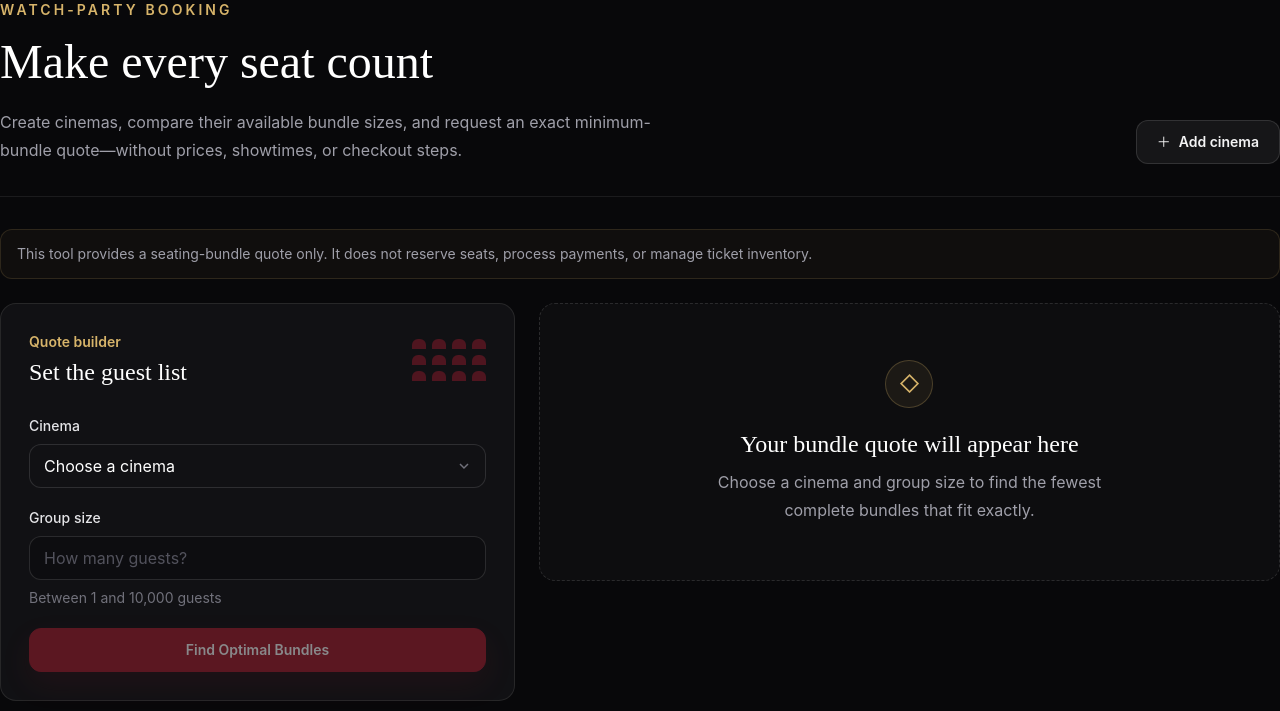
Test: BookingPage › creates a cinema, refreshes the list, and selects it
The image size is (1280, 711).
expect the dropdown labelled "Cinema" is shown: met, box [29,444,486,488]
Click the button "＋ Add cinema" at (1208, 142), box [1136,120,1279,164]
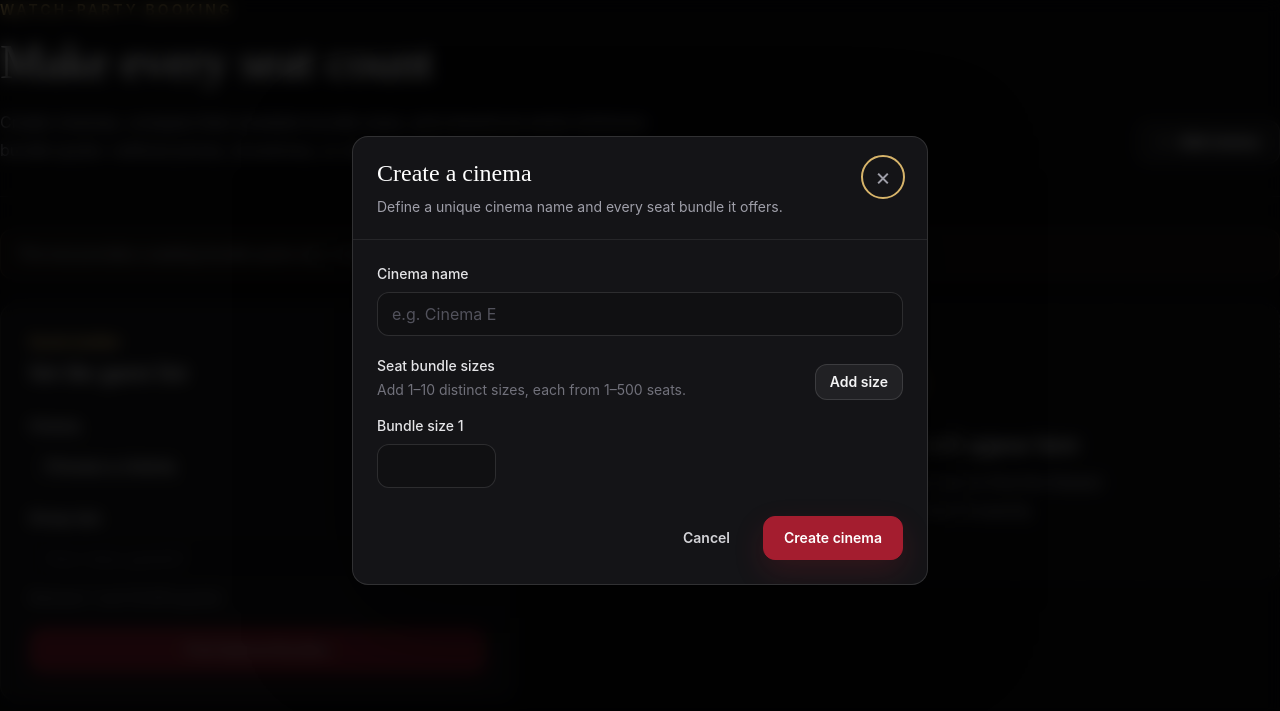
Type "Cinema E" into the field labelled "Cinema name" at (640, 314), box [377,292,903,336]
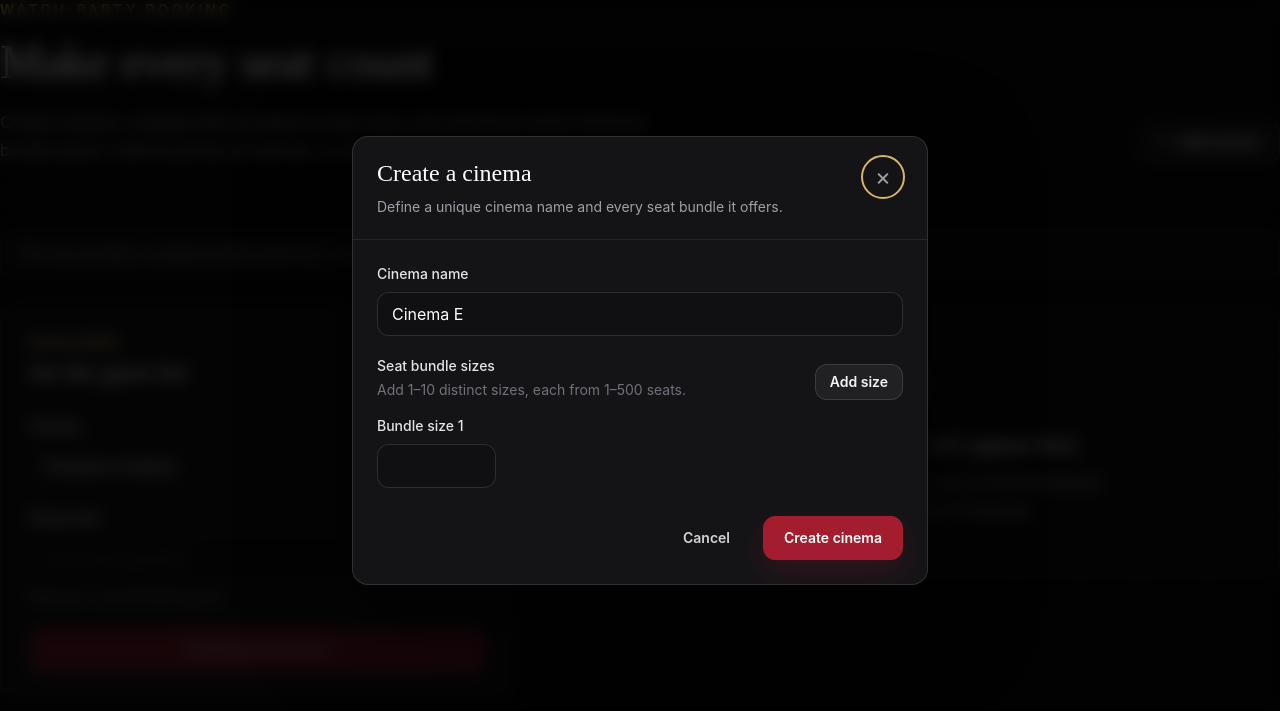
Type "2" into the number field labelled "Bundle size 1" at (436, 466), box [377,444,496,488]
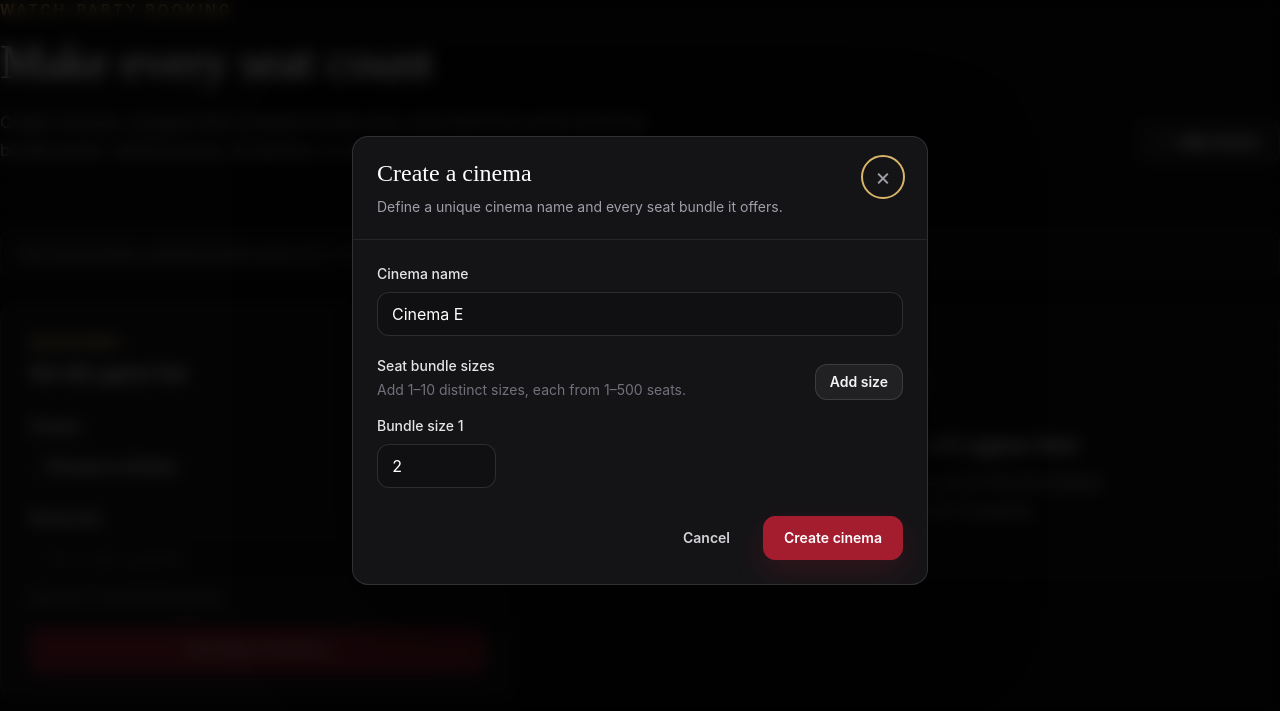
Click the button "Add size" at (859, 382), box [815,364,903,400]
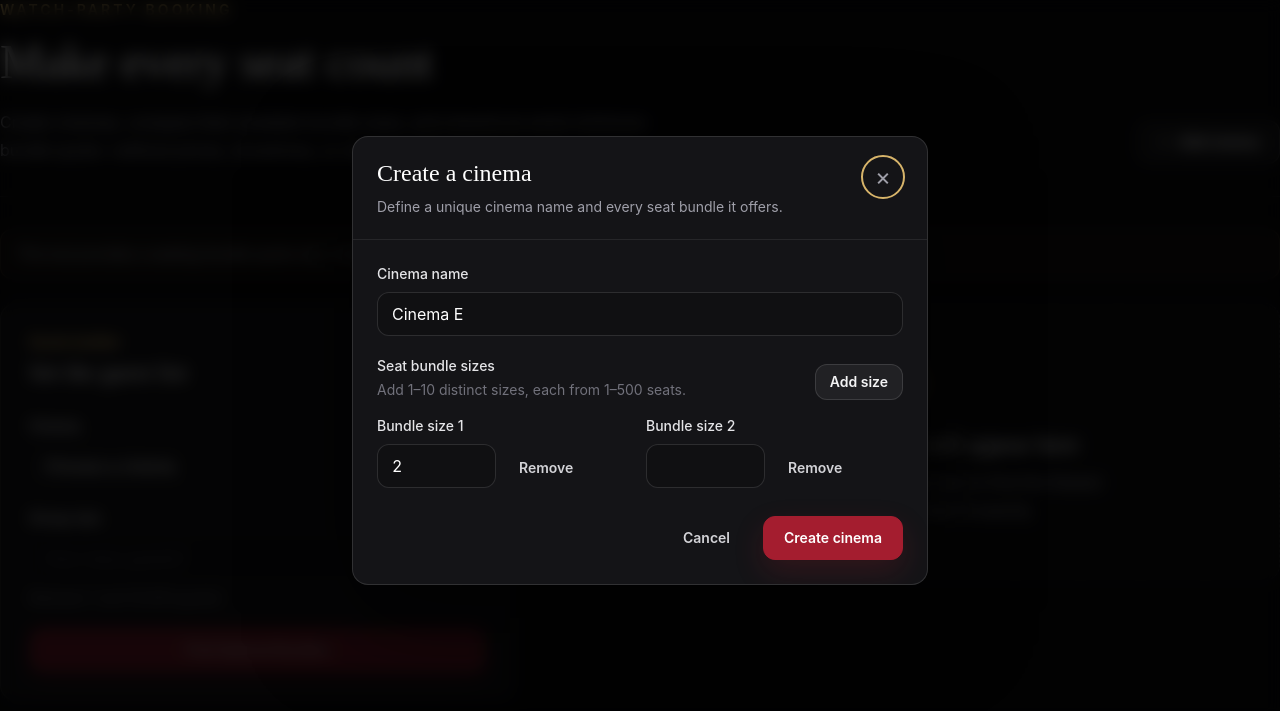
Type "5" into the number field labelled "Bundle size 2" at (706, 466), box [646,444,765,488]
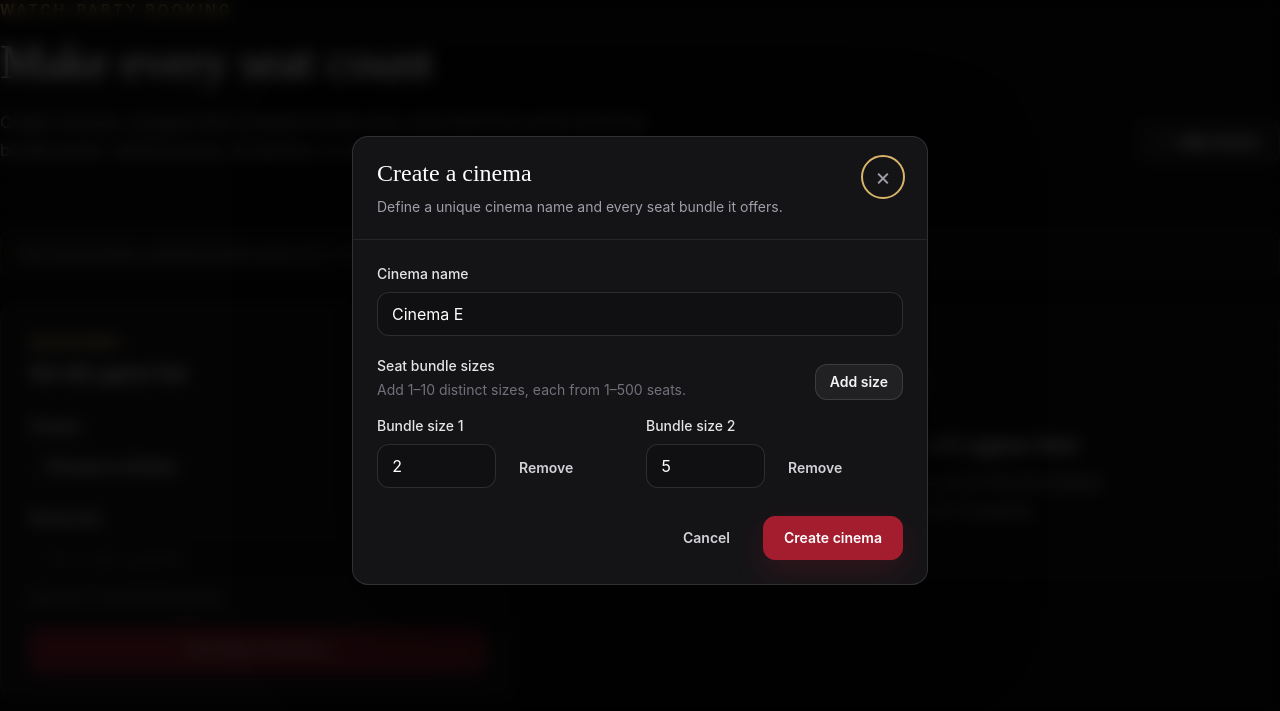
Click the button "Create cinema" at (833, 538), box [763,516,903,560]
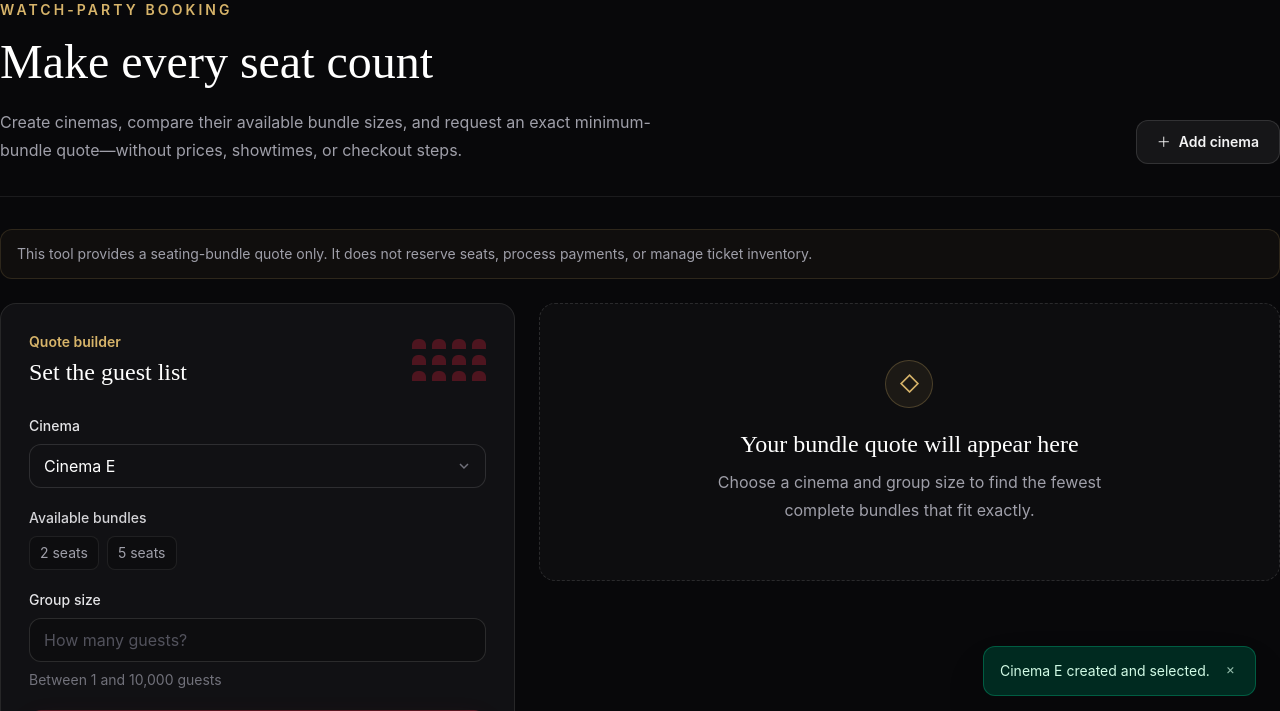
expect the dropdown labelled "Cinema" shows "Cinema E": met, box [29,444,486,488]
